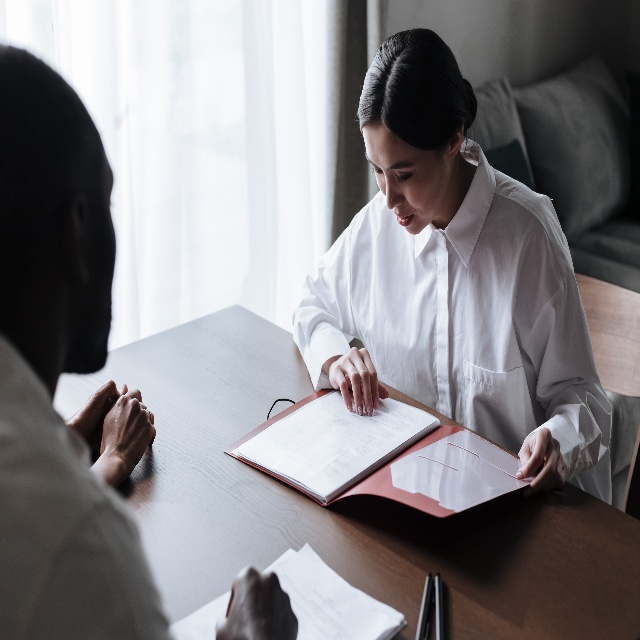Sin_guantes: (215, 564, 298, 640), (96, 383, 156, 478), (327, 344, 390, 418), (70, 376, 120, 454), (516, 425, 569, 498)
